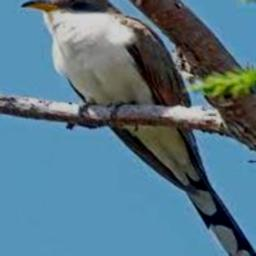Cuckoo: (19, 0, 256, 256)
